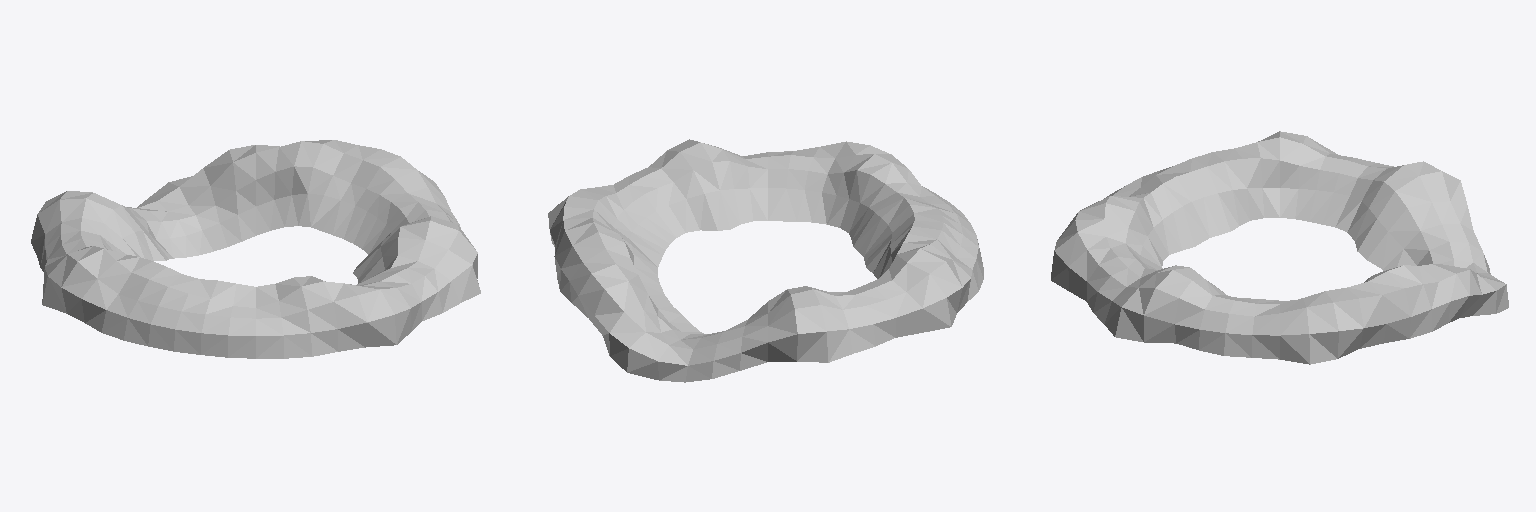
Rendered from Encounter.obj.
3 views of the same model, side by side, from view 1: azimuth 30°, elevation 25°; view 2: azimuth 150°, elevation 25°; view 3: azimuth 270°, elevation 25° (orthographic).
Parts seen in each view (by area): view 1: Torus; view 2: Torus; view 3: Torus.
Part boxes in pixels (bbox=[...]): Torus: bbox=[31, 140, 480, 358]; Torus: bbox=[548, 139, 983, 382]; Torus: bbox=[1051, 131, 1508, 364].
Size of the model in its own units: 20.93 by 4.53 by 20.93.